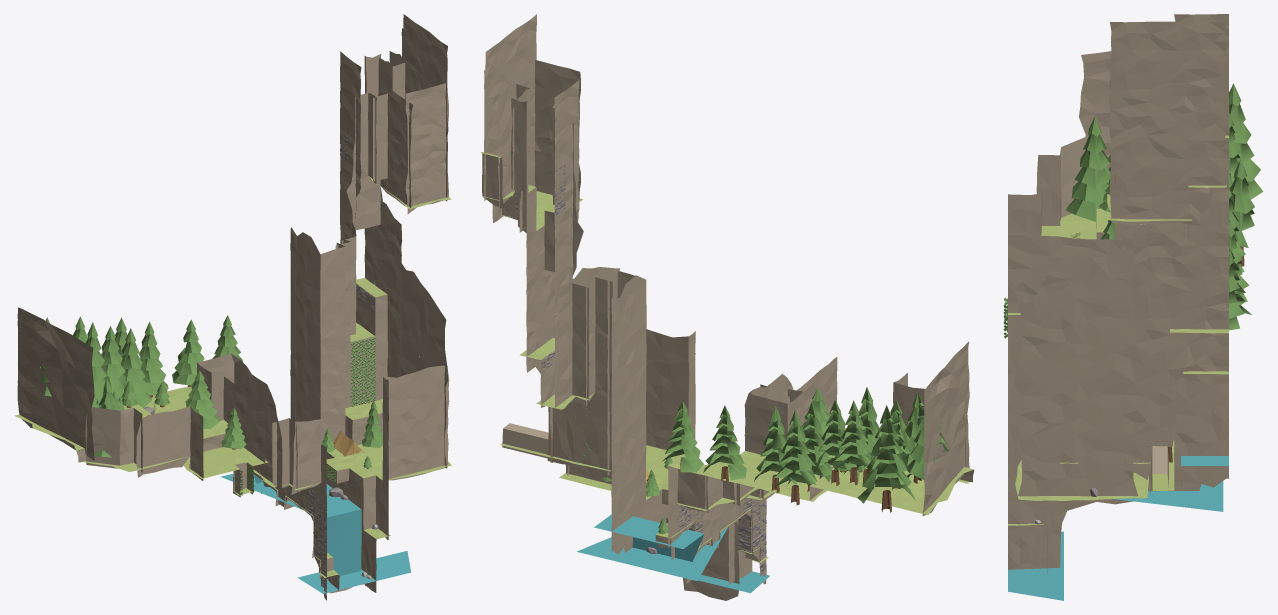
3 views of the same model, side by side, from view 1: azimuth 30°, elevation 25°; view 2: azimuth 150°, elevation 25°; view 3: azimuth 270°, elevation 25° (orthographic). The views are drawn at different scales.
Visible parts, largest first — view 1: 8; view 2: 8; view 3: 8.
Part boxes in pixels (x1,y1,x2,y2): 8: [14, 14, 451, 600]; 8: [481, 14, 974, 600]; 8: [1003, 14, 1263, 600].
Size of the model in its own units: 32.01 by 38.36 by 14.13.
1 material, 1 textured.
